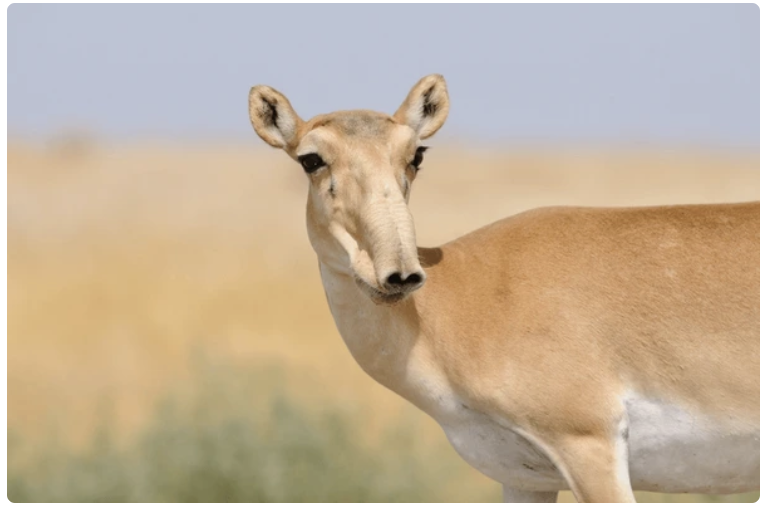saiga: (251, 71, 747, 497)
